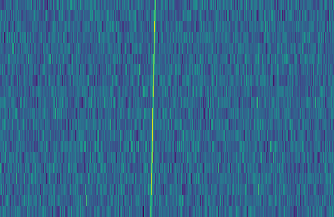signal: (145, 0, 158, 217)
